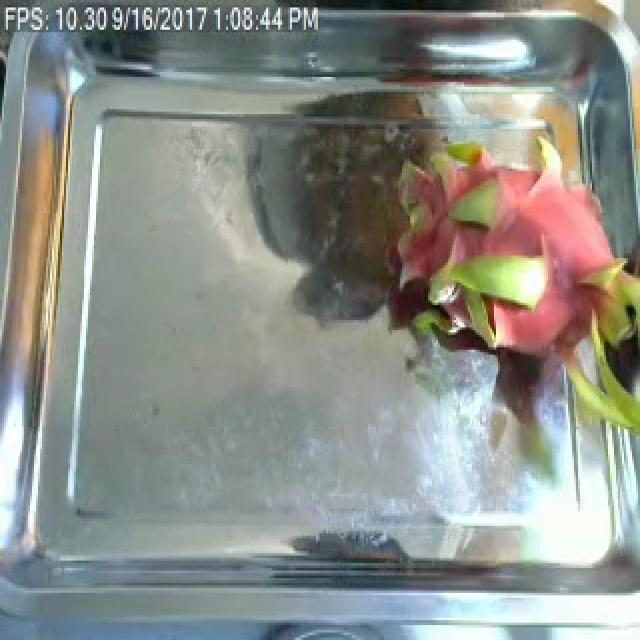fruit: (362, 106, 640, 446)
